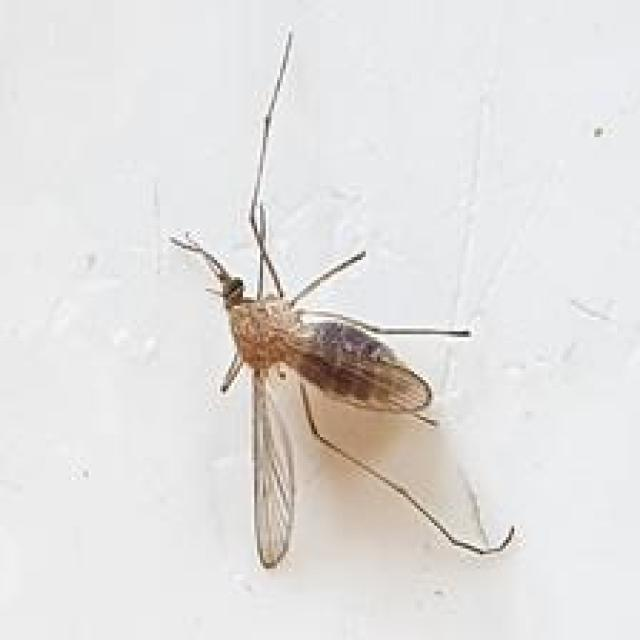Culex: (167, 29, 516, 568)
